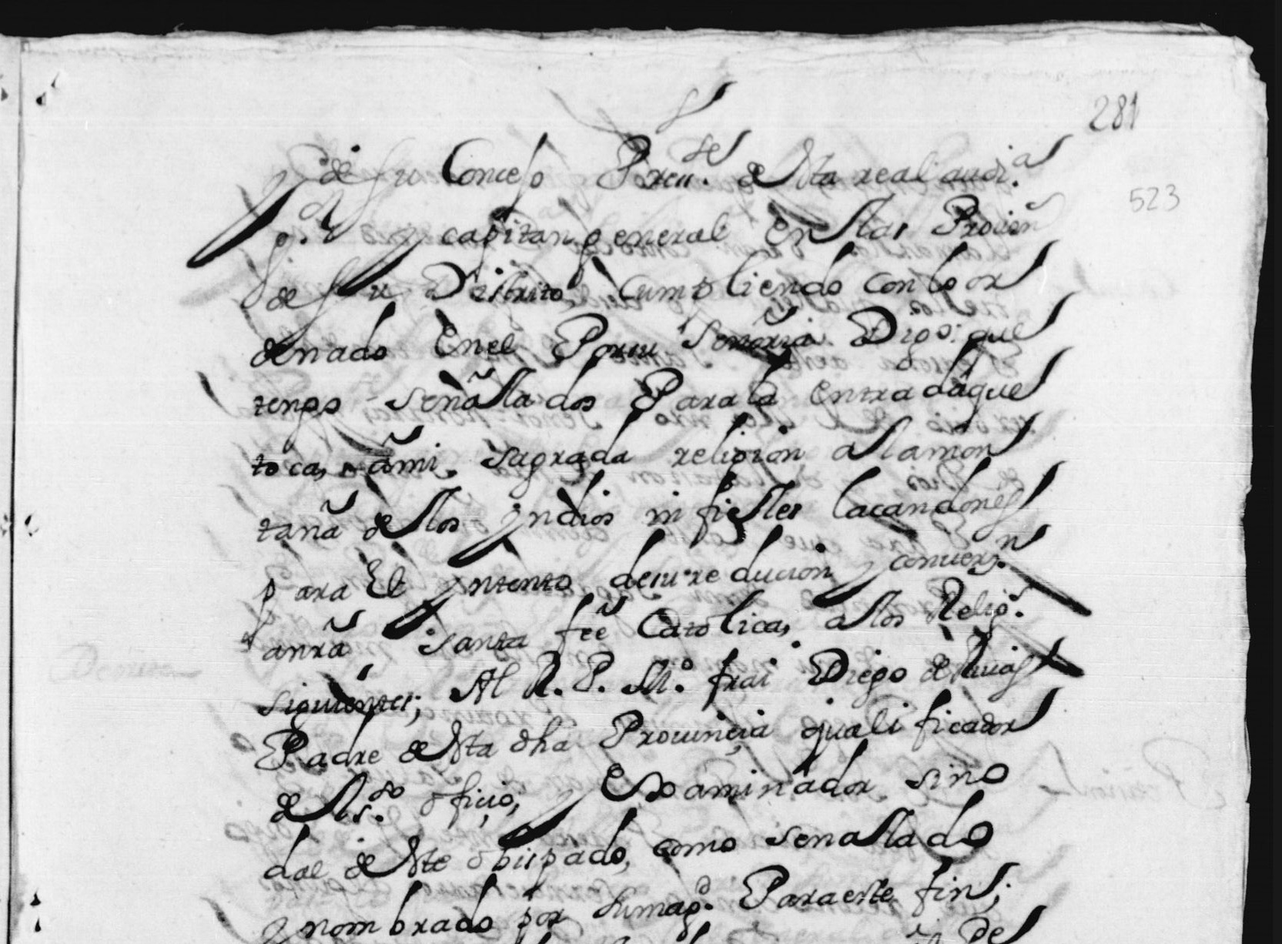lacandon: (832, 456, 1066, 542)
